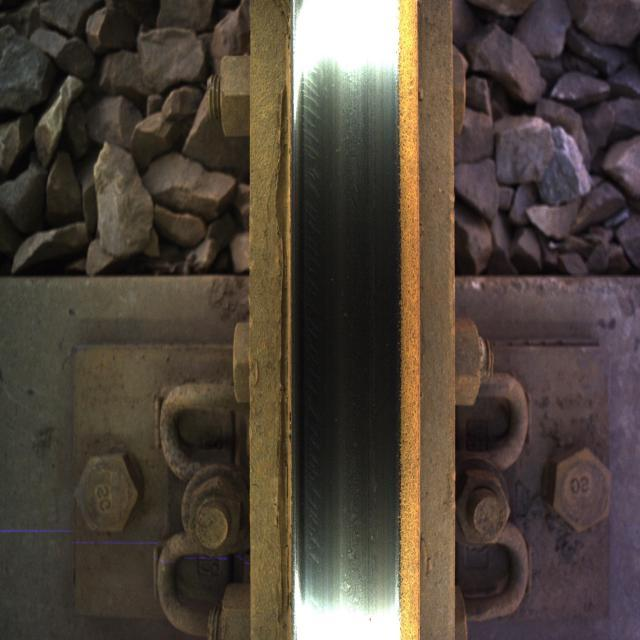break: (302, 16, 392, 634)
